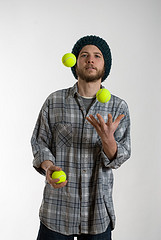tennis ball: (61, 52, 77, 67), (96, 88, 112, 103), (50, 170, 67, 184)
